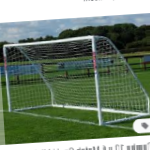goals: (2, 34, 150, 124)
